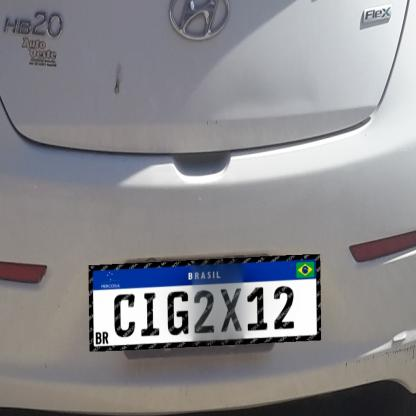PlacaM: (89, 254, 321, 352)
